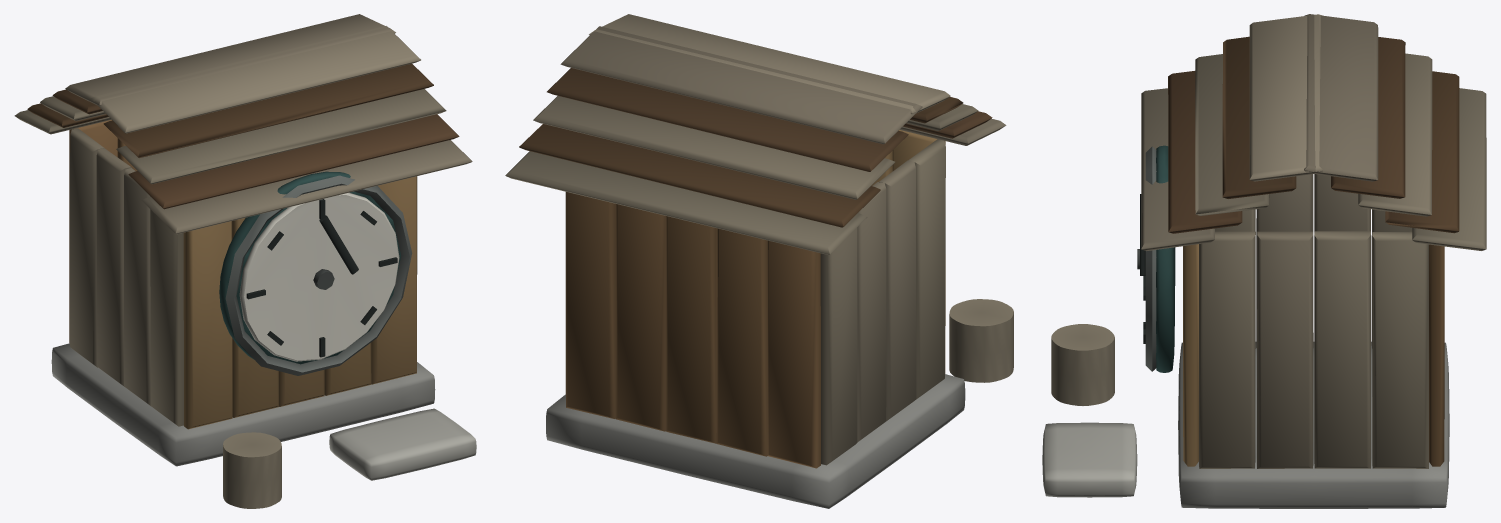
File: gauge_dial_shed_a.glb
3 renders of one model, left to right at view 1: azimuth 30°, elevation 25°; view 2: azimuth 150°, elevation 25°; view 3: azimuth 270°, elevation 25°, orthographic. The views are drawn at different scales.
Visible parts, largest first — view 1: Surface; view 2: Surface; view 3: Surface.
Part boxes in pixels (x1,y1,x2,y2): Surface: (14, 14, 476, 508); Surface: (505, 14, 1013, 508); Surface: (1042, 14, 1486, 508).
Size of the model in its own units: 2.7 by 2.88 by 3.27.
